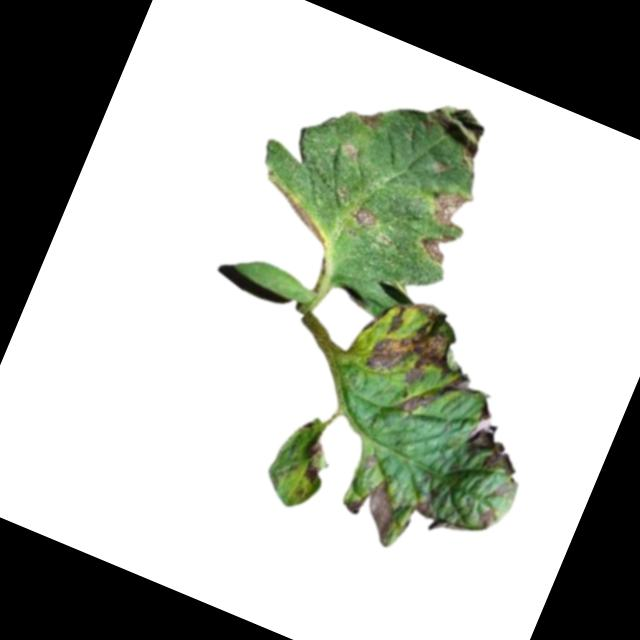Early_blight: (349, 287, 506, 436), (458, 406, 535, 482), (333, 465, 406, 542), (422, 95, 492, 157), (268, 186, 338, 245), (406, 493, 467, 541), (425, 180, 474, 233), (294, 432, 332, 482), (418, 225, 456, 265), (473, 499, 502, 532), (352, 102, 383, 130), (350, 204, 377, 232)
